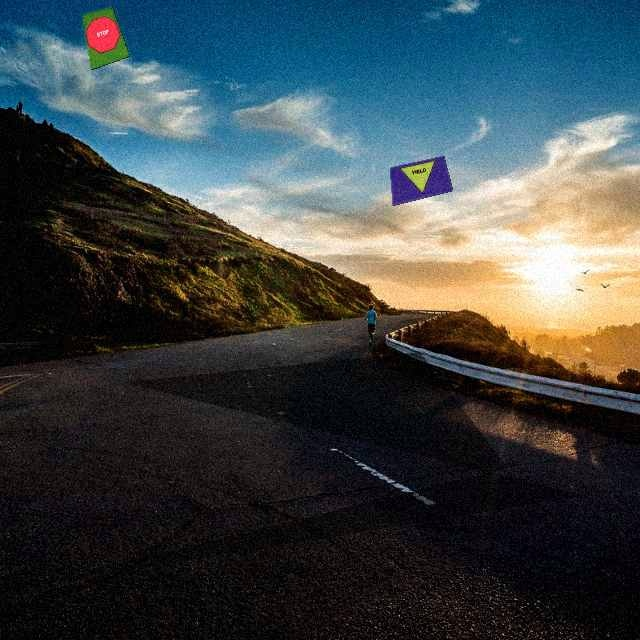STOP: (84, 13, 125, 57)
YIELD: (399, 160, 442, 199)
